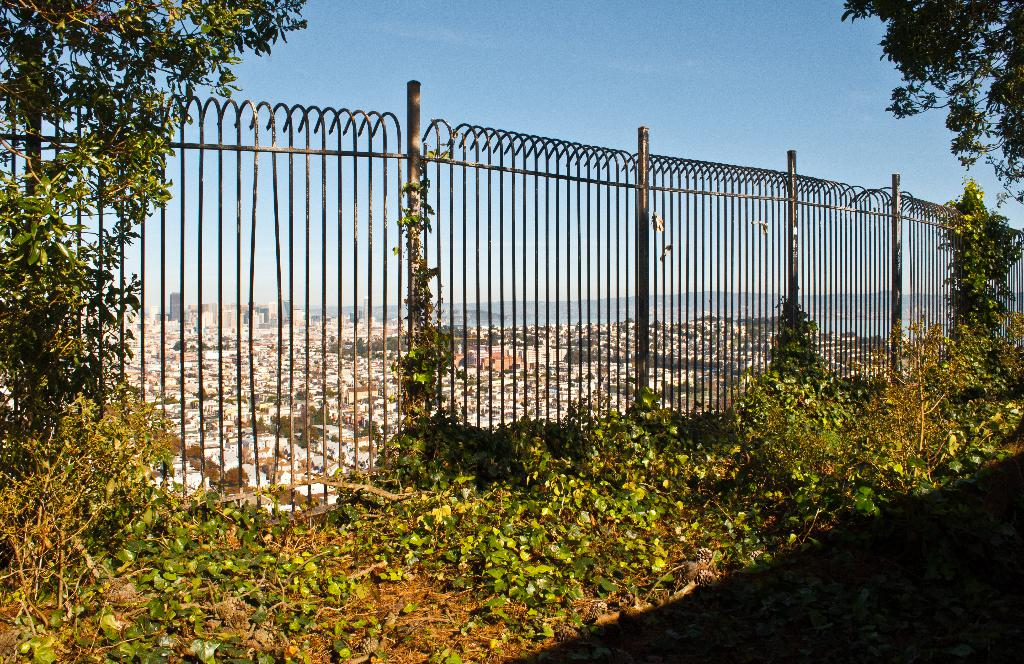Tree: (0, 0, 309, 483), (839, 0, 1023, 205)
